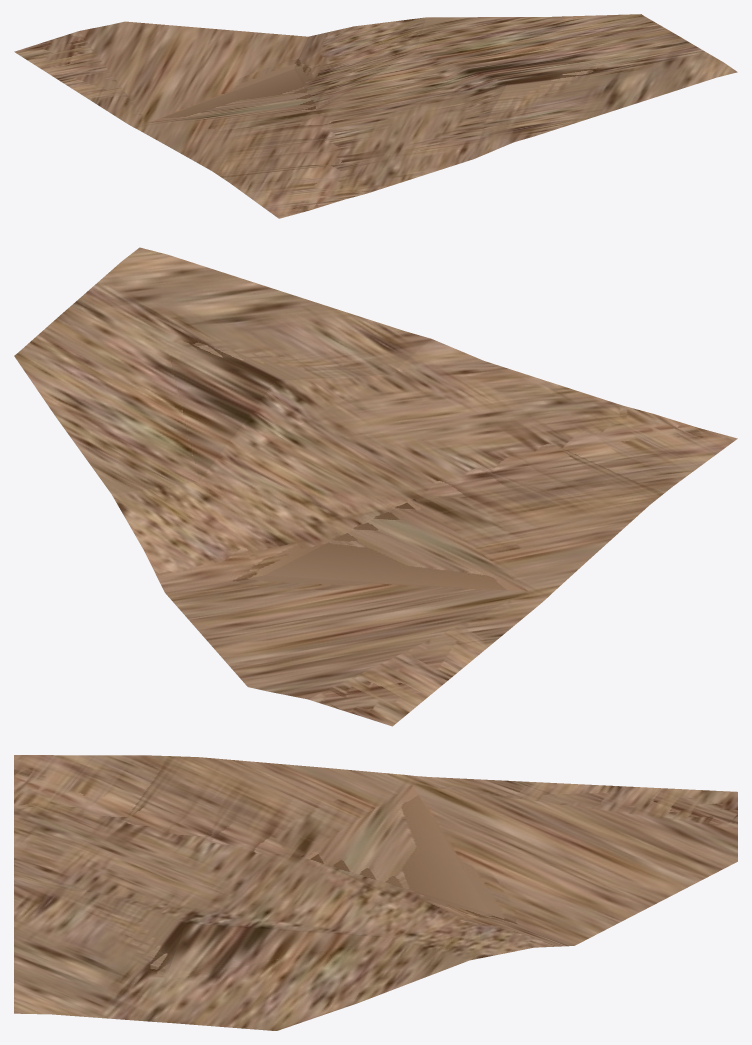
The picture shows the model from 3 angles, top to bottom: view 1: azimuth 30°, elevation 25°; view 2: azimuth 150°, elevation 25°; view 3: azimuth 270°, elevation 25°; orthographic projection. The views are drawn at different scales.
Bounding box in the file's own units: 2.09 × 0.2679 × 2.09.
2 materials, 2 textured.
